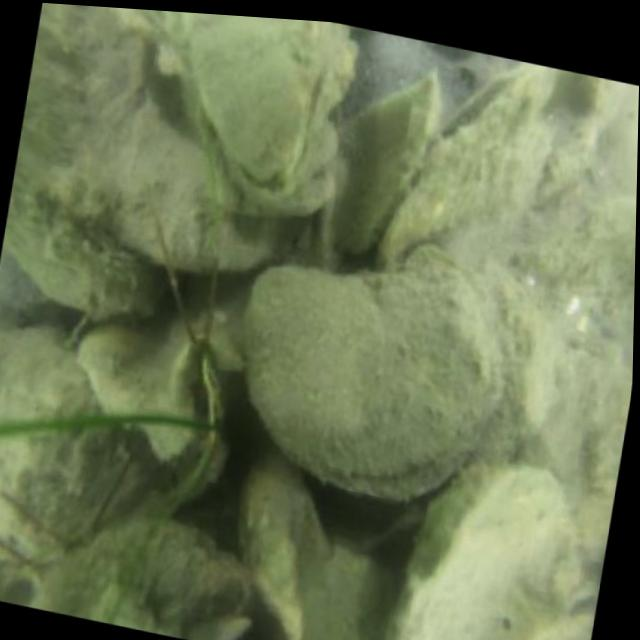Oyster-Closed: (237, 241, 505, 504)
Oyster-Indeterminate: (15, 3, 278, 276), (389, 456, 581, 640), (0, 324, 145, 559), (29, 515, 247, 637), (3, 164, 163, 316)
Oyster-Open: (373, 58, 555, 272), (188, 13, 336, 197)
